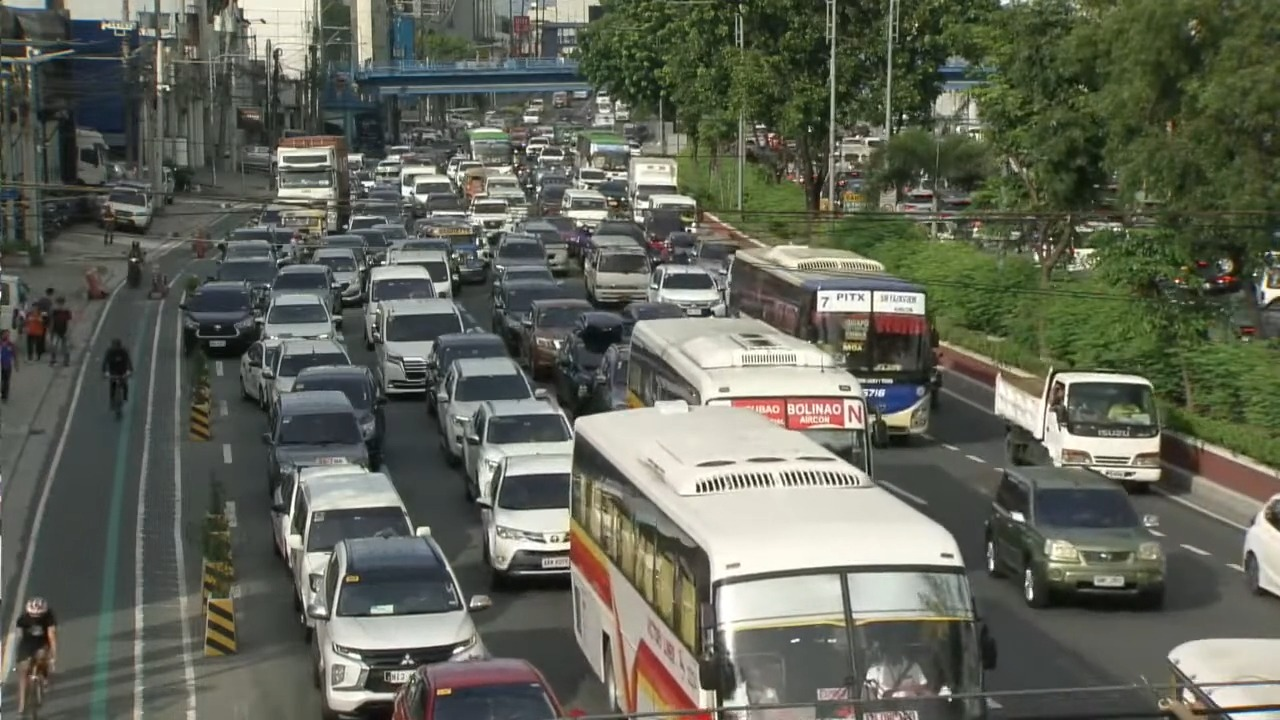bus: (570, 402, 995, 719), (728, 245, 936, 436), (627, 317, 875, 471), (1164, 638, 1279, 719), (577, 131, 630, 171), (468, 127, 513, 171)
car: (307, 533, 491, 716), (984, 466, 1165, 608), (285, 470, 413, 609), (479, 453, 572, 587), (435, 357, 546, 465), (463, 399, 572, 500), (263, 391, 367, 494), (271, 464, 368, 569), (294, 365, 386, 469), (373, 299, 463, 393), (552, 311, 624, 415), (261, 339, 351, 422), (426, 328, 506, 414), (363, 265, 435, 350), (517, 298, 591, 379), (179, 281, 259, 353), (491, 281, 572, 352), (270, 264, 341, 327), (647, 264, 726, 316), (1242, 494, 1279, 594), (578, 344, 629, 415), (386, 246, 453, 297), (262, 293, 335, 338), (239, 339, 282, 410), (312, 247, 362, 307), (214, 257, 277, 304), (520, 218, 569, 272), (105, 183, 155, 234), (638, 209, 684, 256), (220, 226, 291, 256), (493, 234, 549, 271), (559, 188, 608, 229), (491, 266, 557, 296), (321, 233, 368, 275), (619, 301, 685, 326), (468, 197, 509, 237), (347, 228, 390, 266), (694, 239, 739, 275), (536, 216, 577, 253), (220, 239, 276, 262), (594, 220, 645, 245), (419, 193, 466, 218), (664, 230, 698, 263), (595, 180, 629, 212), (534, 185, 568, 216), (370, 222, 408, 243), (574, 167, 606, 188)
motorcycle: (126, 255, 142, 288)
truck: (993, 369, 1161, 489), (275, 135, 350, 231), (627, 156, 678, 222)
